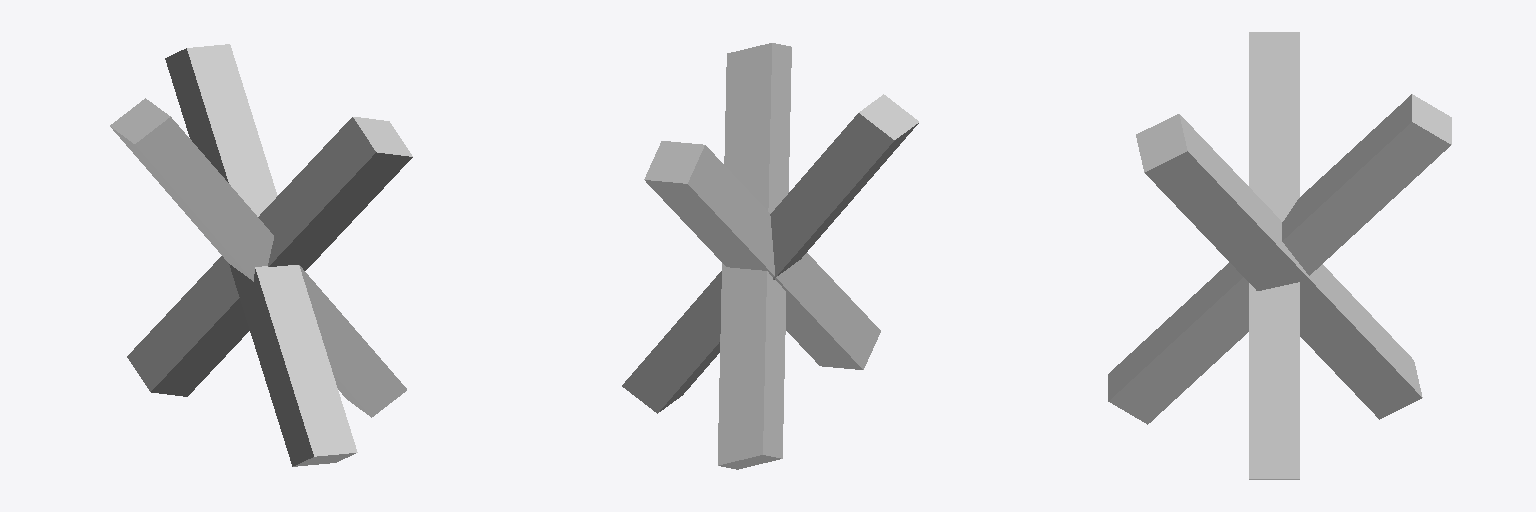
Rendered from steelBlockade.obj.
3 views of the same model, side by side, from view 1: azimuth 30°, elevation 25°; view 2: azimuth 150°, elevation 25°; view 3: azimuth 270°, elevation 25° (orthographic).
Parts seen in each view (by area): view 1: Mesh2 Group2 Model, Mesh1 Group1 Model, Mesh3 Group3 Model; view 2: Mesh1 Group1 Model, Mesh2 Group2 Model, Mesh3 Group3 Model; view 3: Mesh2 Group2 Model, Mesh1 Group1 Model, Mesh3 Group3 Model.
Boxes of the visible parts, box(x1,y1,x2,y2) form: Mesh2 Group2 Model: box(165, 44, 357, 466); Mesh1 Group1 Model: box(127, 117, 412, 396); Mesh3 Group3 Model: box(110, 98, 406, 417); Mesh1 Group1 Model: box(718, 43, 791, 469); Mesh2 Group2 Model: box(644, 141, 880, 369); Mesh3 Group3 Model: box(622, 94, 918, 413); Mesh2 Group2 Model: box(1108, 94, 1451, 424); Mesh1 Group1 Model: box(1136, 114, 1422, 419); Mesh3 Group3 Model: box(1249, 32, 1299, 479).
Bounding box in the file's own units: 28.22 × 34.58 × 30.7.